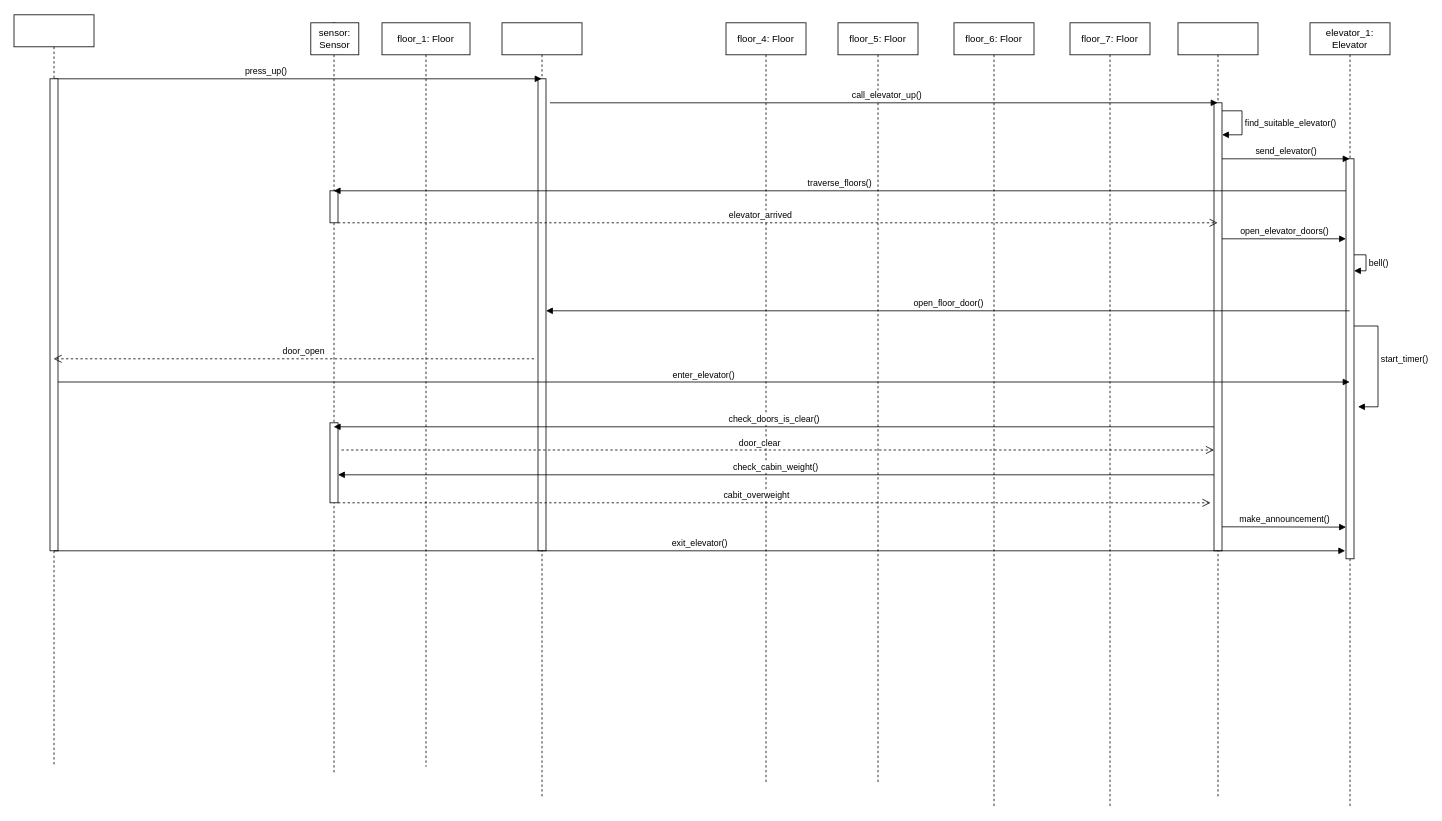
This 1442x821 diagram has some shape labels left out. The box of each missing label's shape, as (x1, y1, x2, y2) in pixels:
ecs: Elevator Control System <<Controller>: (1177, 22, 1258, 799)
floor_2: Floor: (501, 22, 582, 799)
passenger_1: Person <<actor>>: (13, 14, 94, 767)
